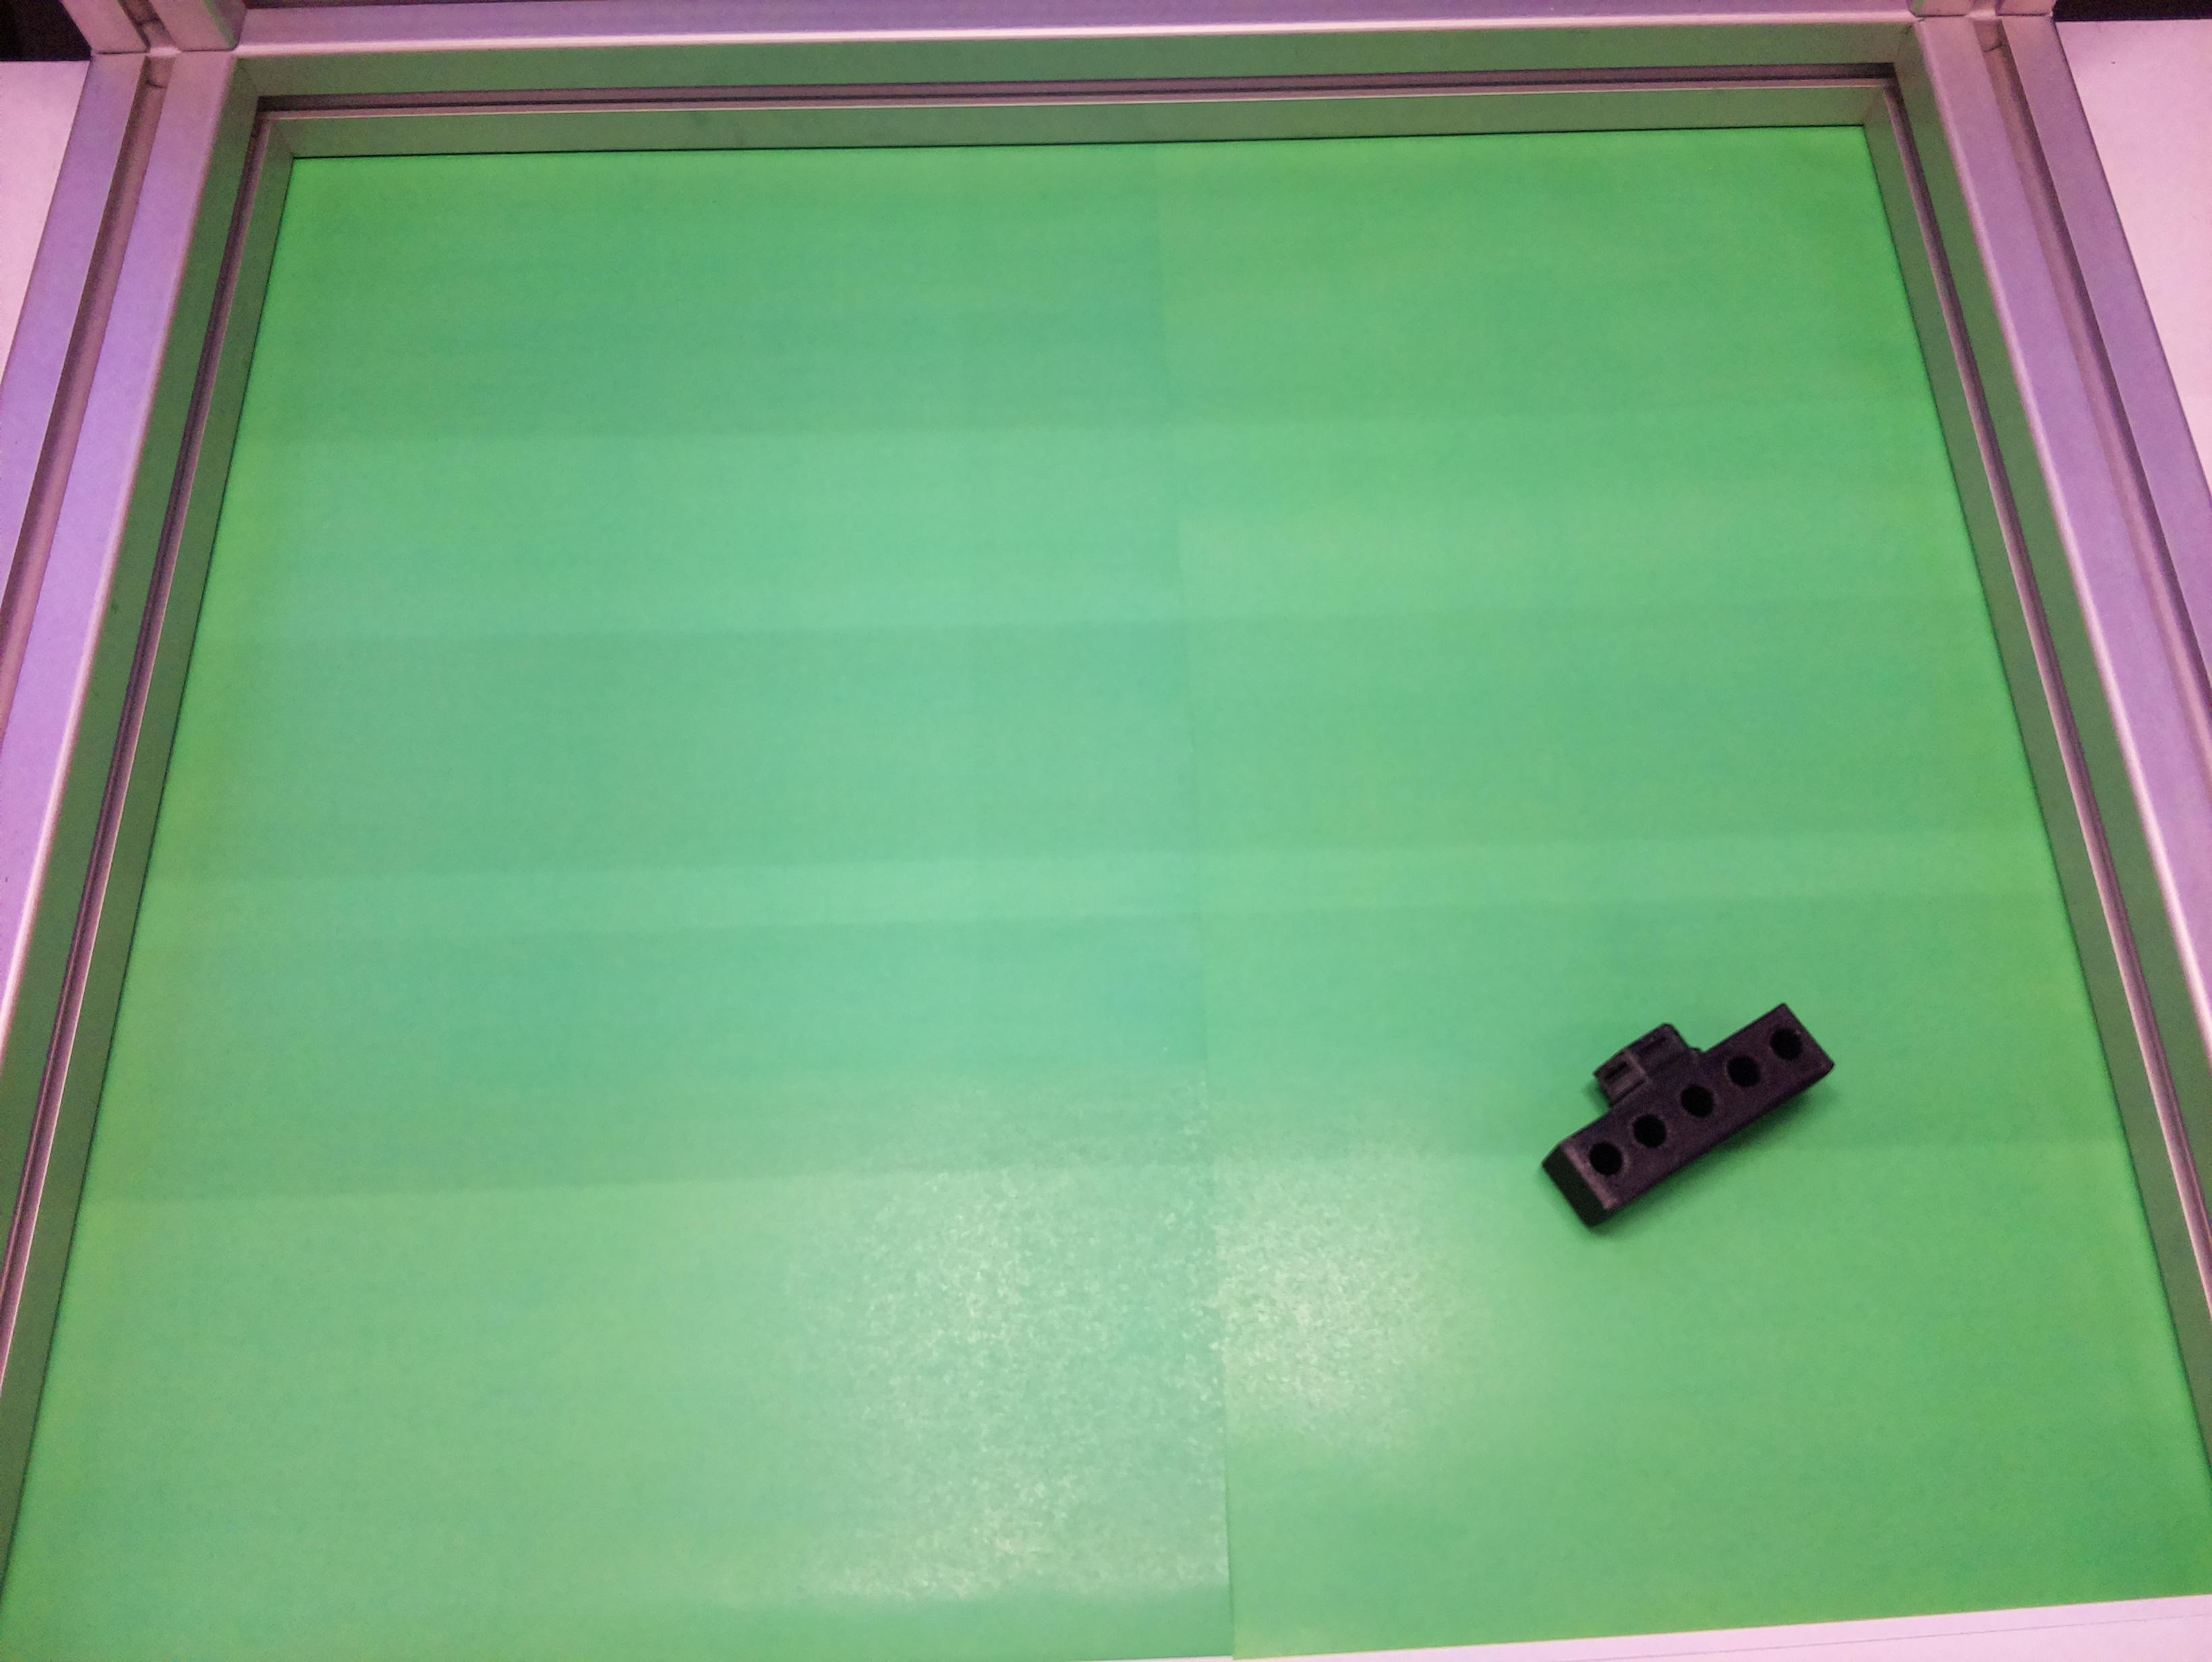bit_holder: (1514, 958, 1838, 1233)
